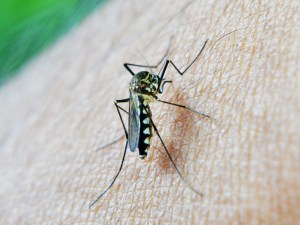mosquito: (79, 36, 227, 209)
